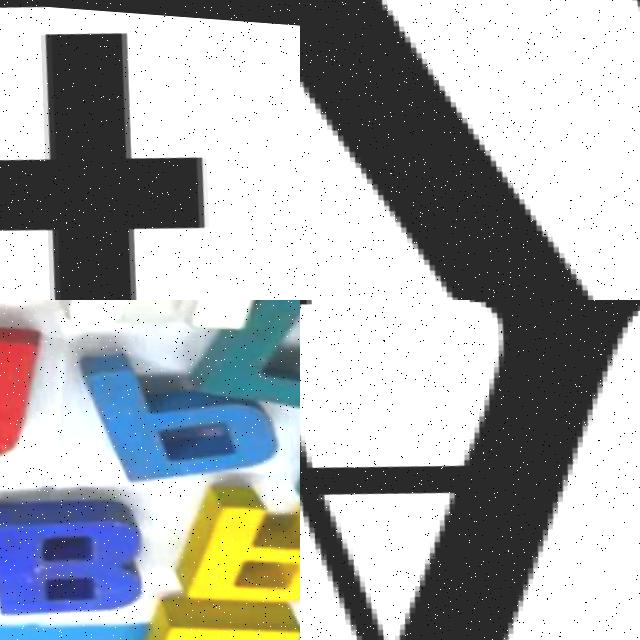A: (300, 300, 640, 640), (0, 300, 48, 482)
B: (0, 480, 141, 628)
D: (206, 300, 300, 415)
H: (31, 300, 282, 349)
L: (120, 580, 300, 640)
P: (72, 337, 286, 485)
R: (167, 461, 300, 609)
Z: (300, 0, 640, 300)
